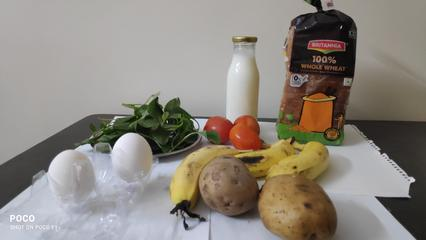banana: (256, 131, 340, 176)
bread: (284, 1, 356, 135)
eggs: (52, 140, 148, 213)
milk: (222, 33, 265, 120)
potato: (249, 167, 331, 229), (200, 157, 262, 215)
spinach: (121, 107, 190, 141)
tomato: (203, 112, 275, 145)
